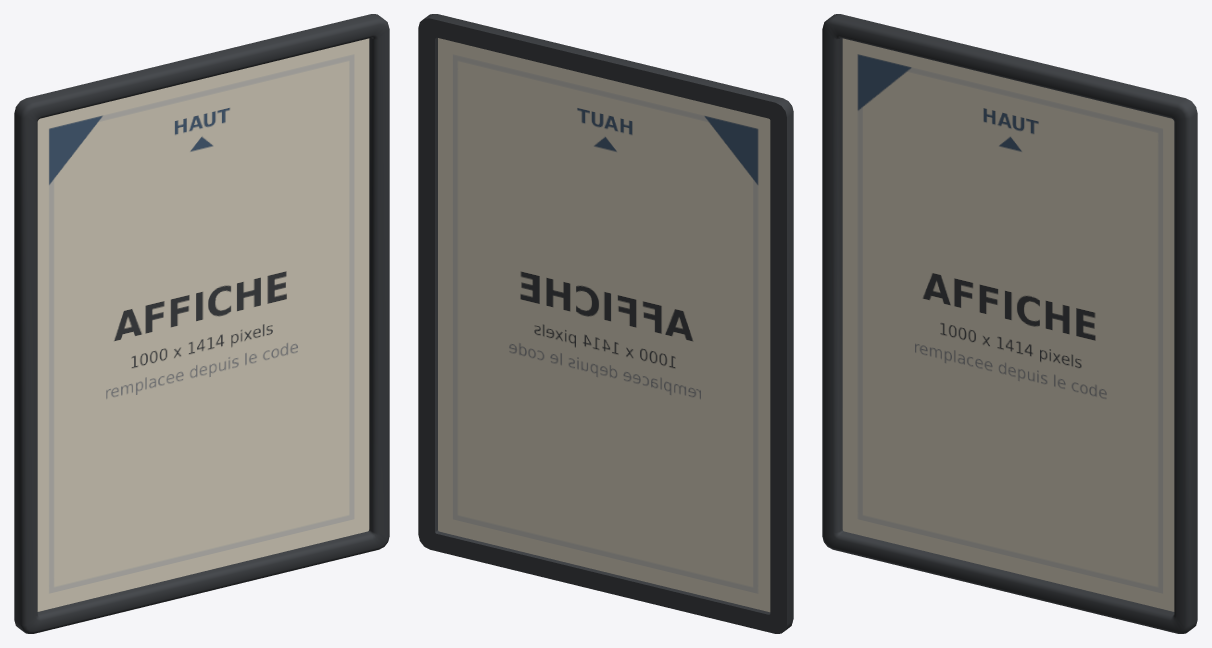
Rendered from affiche_grand.glb.
3 renders of one model, left to right at view 1: azimuth 30°, elevation 25°; view 2: azimuth 150°, elevation 25°; view 3: azimuth 330°, elevation 25°, orthographic.
Visible parts, largest first — view 1: AFG_Affiche, AFG_Anthracite; view 2: AFG_Affiche, AFG_Anthracite; view 3: AFG_Affiche, AFG_Anthracite.
Part boxes in pixels (bbox=[...]): AFG_Affiche: bbox=[37, 38, 369, 611]; AFG_Anthracite: bbox=[14, 14, 389, 633]; AFG_Affiche: bbox=[438, 38, 770, 612]; AFG_Anthracite: bbox=[418, 14, 793, 633]; AFG_Affiche: bbox=[842, 38, 1174, 611]; AFG_Anthracite: bbox=[822, 14, 1197, 633].
Bounding box in the file's own units: 0.88 × 1.21 × 0.035.
Materials: 2 (1 with a texture image).
